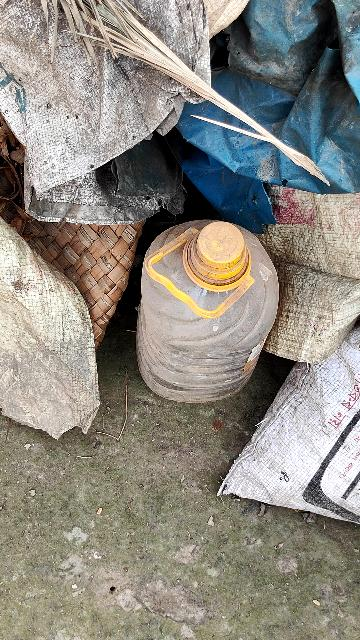bottle: (137, 217, 277, 407)
